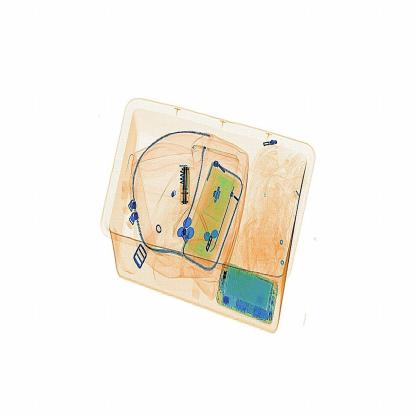scissors: (177, 164, 193, 210)
